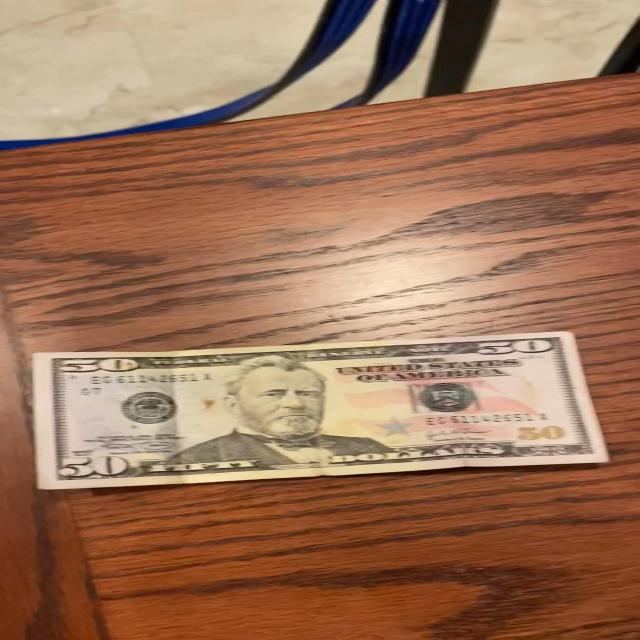50-Front: (28, 328, 610, 494)
